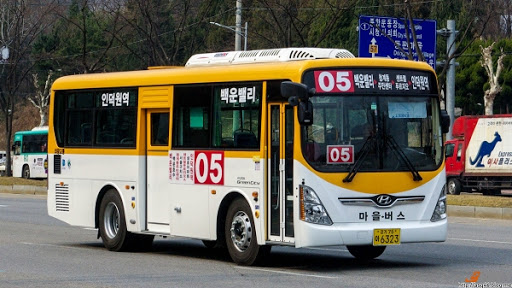bnum: (314, 69, 353, 92)
